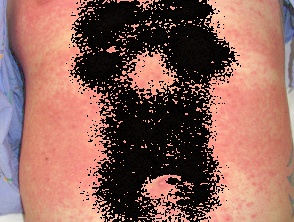SJS-TEN: (7, 0, 292, 222)
